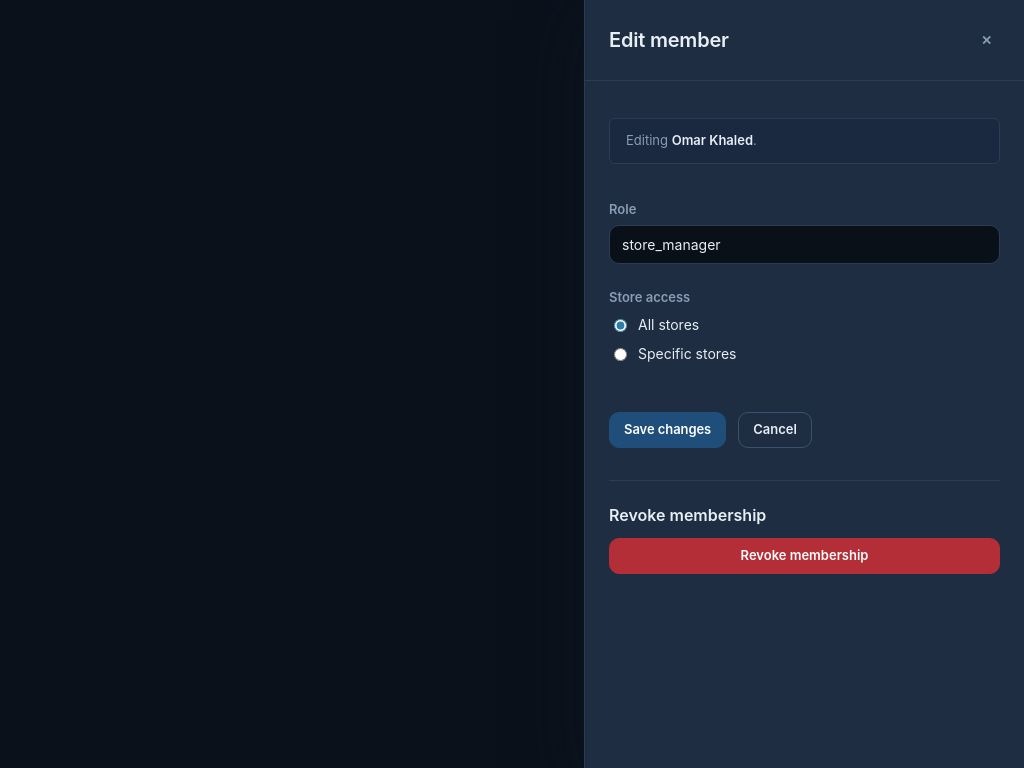
it: EditMember › revoke -> 404 -> uniform banner, confirm dismissed
Click the button "Revoke membership".
click(804, 556)  # box 609,538 -> 1000,574
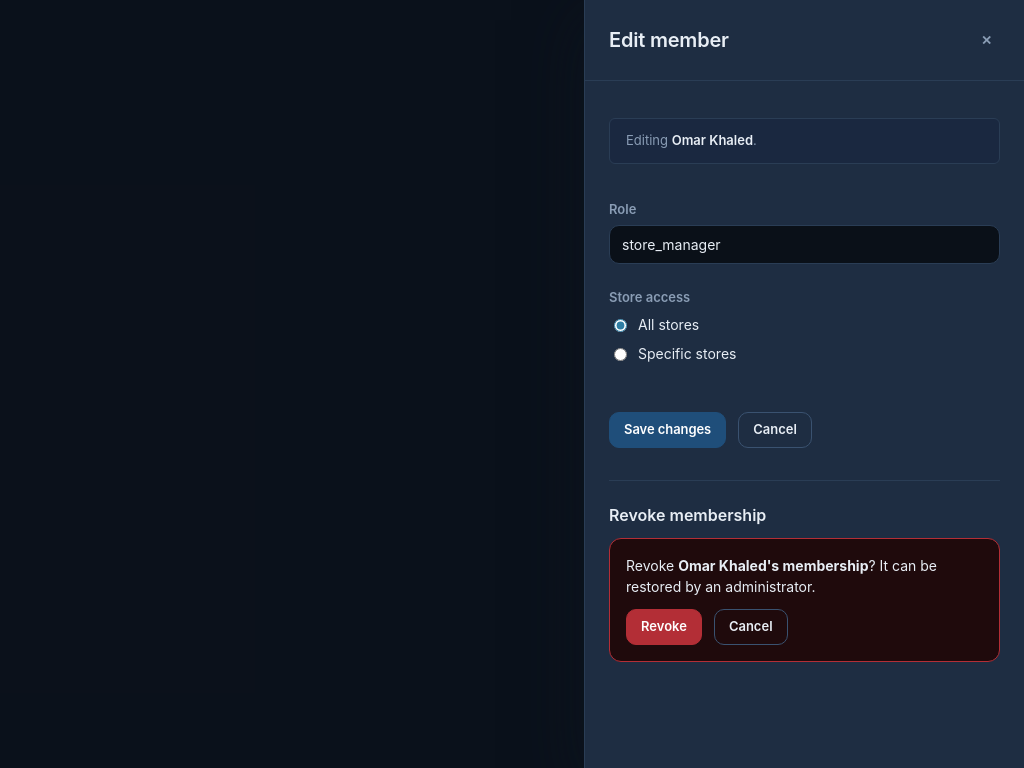
Click the button "Revoke".
click(664, 627)  # box 626,609 -> 702,645
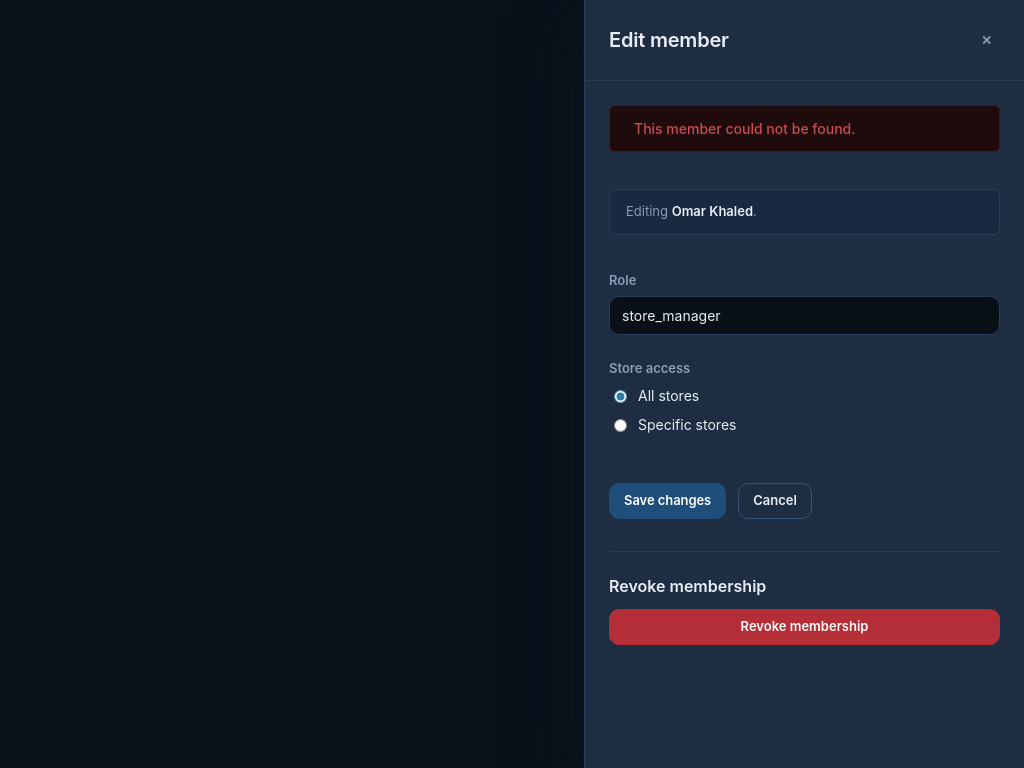
Result: the text "This member could not be found." is shown at 634,120 -> 856,137
